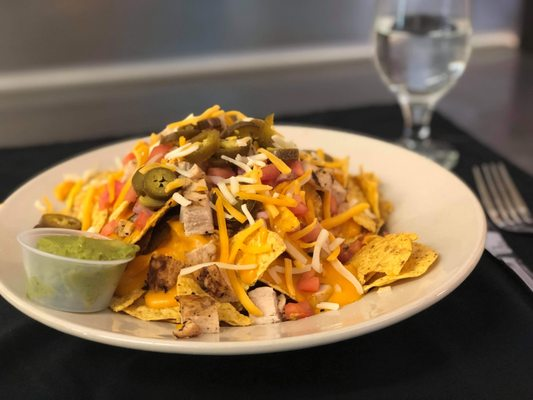burger: (472, 159, 533, 234)
sushi: (16, 227, 141, 313)
